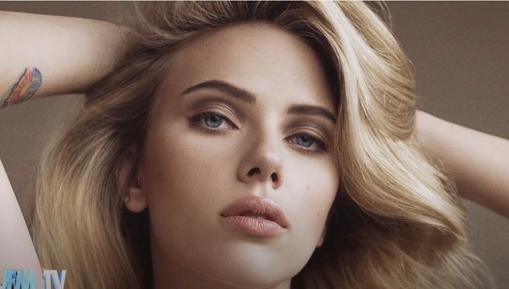eye: (188, 109, 237, 137), (284, 126, 329, 152)
mouth: (220, 196, 290, 236)
nose: (237, 137, 282, 188)
